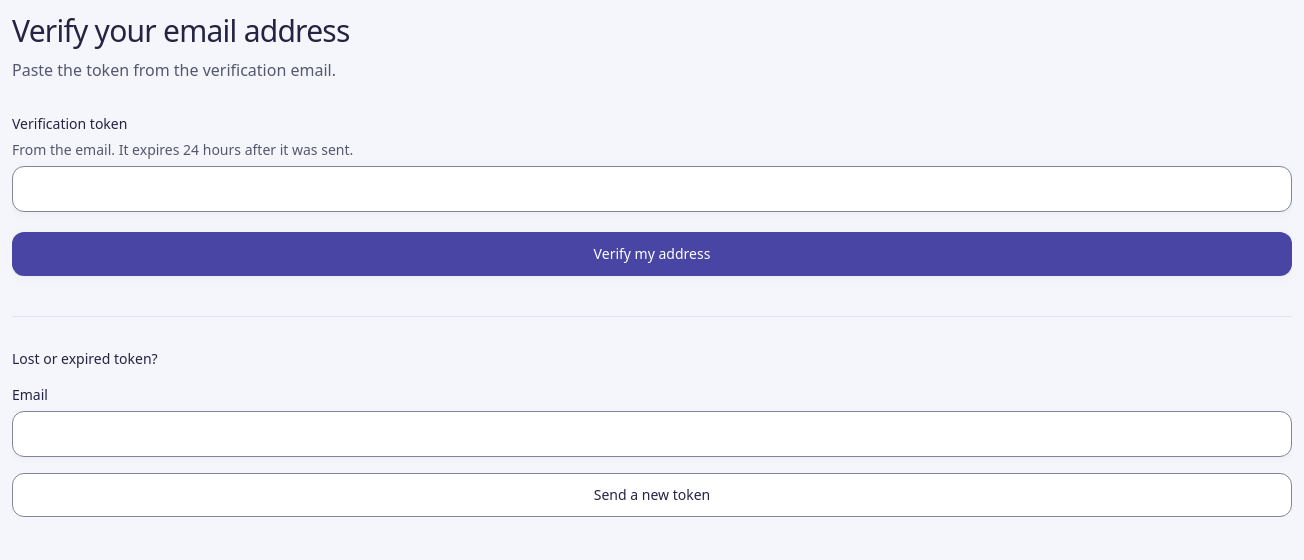
Scenario: a visit with no token in the URL › does not post an empty token when the field is left blank
Expected: the field labelled "Verification token" is shown, x1=12 y1=166 x2=1292 y2=212
Click the button "Verify my address" at (652, 254), box x1=12 y1=232 x2=1292 y2=276
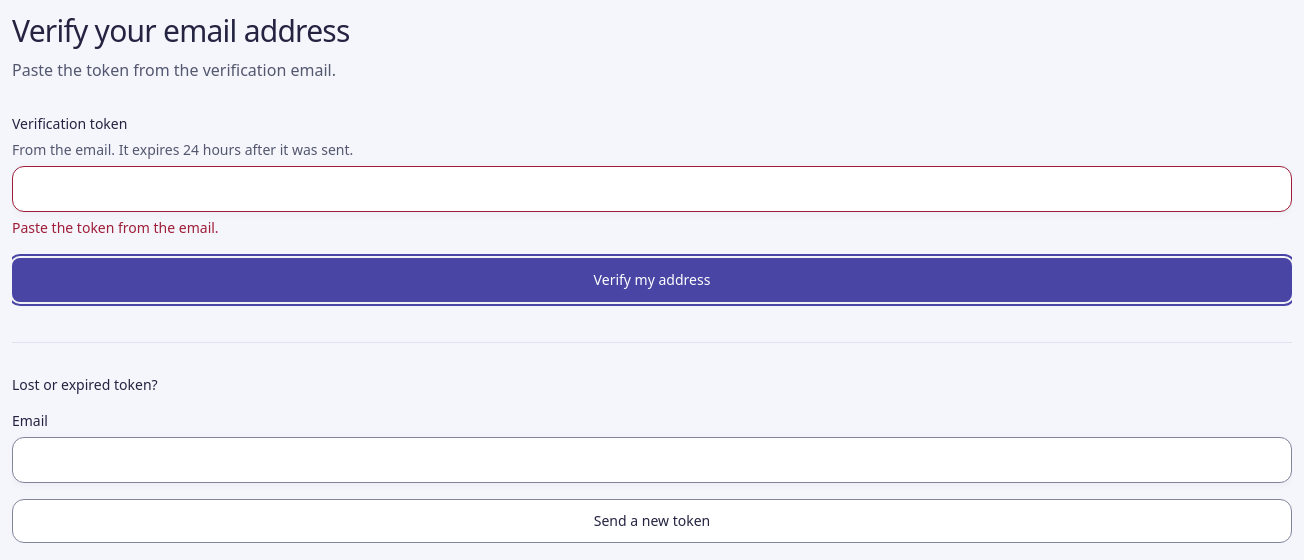
Expected: the message shows "Paste the token", x1=12 y1=218 x2=219 y2=236
